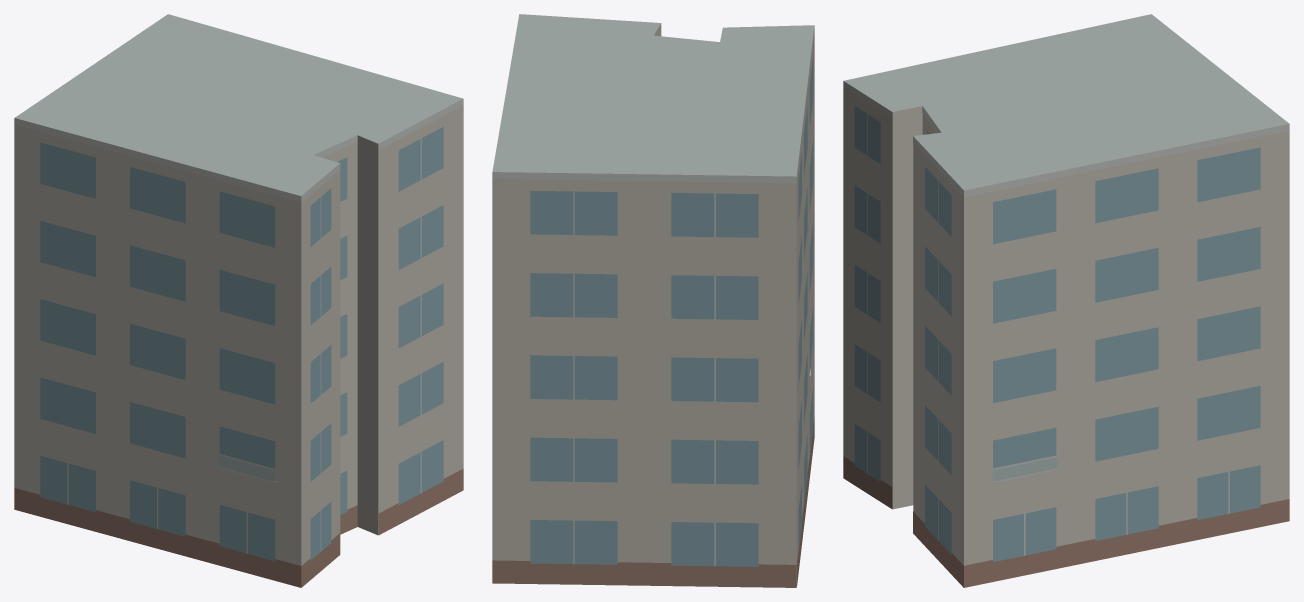
The model's file is survey-upis-32744217.glb.
The picture shows the model from 3 angles, left to right: view 1: azimuth 30°, elevation 25°; view 2: azimuth 150°, elevation 25°; view 3: azimuth 270°, elevation 25°; orthographic projection. The views are drawn at different scales.
Parts seen in each view (by area): view 1: survey-upis-32744217.tmp; view 2: survey-upis-32744217.tmp; view 3: survey-upis-32744217.tmp.
Part boxes in pixels (box(x1,y1,x2,y2)): survey-upis-32744217.tmp: box(14, 14, 463, 587); survey-upis-32744217.tmp: box(492, 14, 814, 587); survey-upis-32744217.tmp: box(843, 14, 1289, 587).
Bounding box in the file's own units: 13.68 × 14.35 × 14.62.
